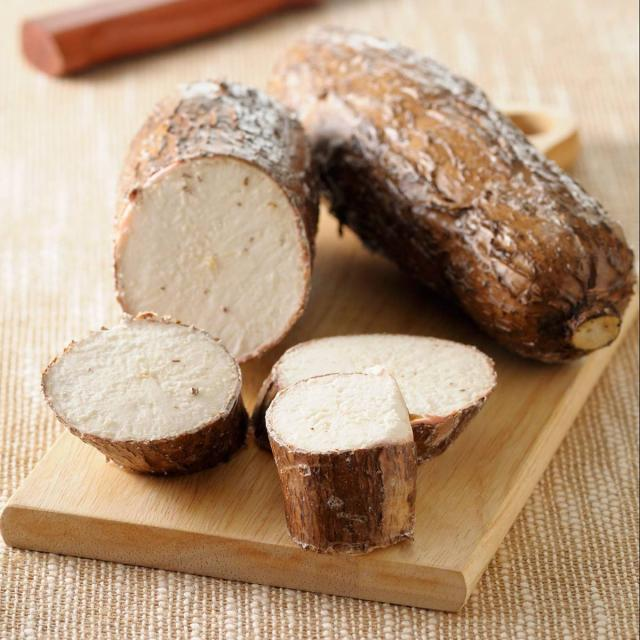yuca: (38, 315, 262, 481)
